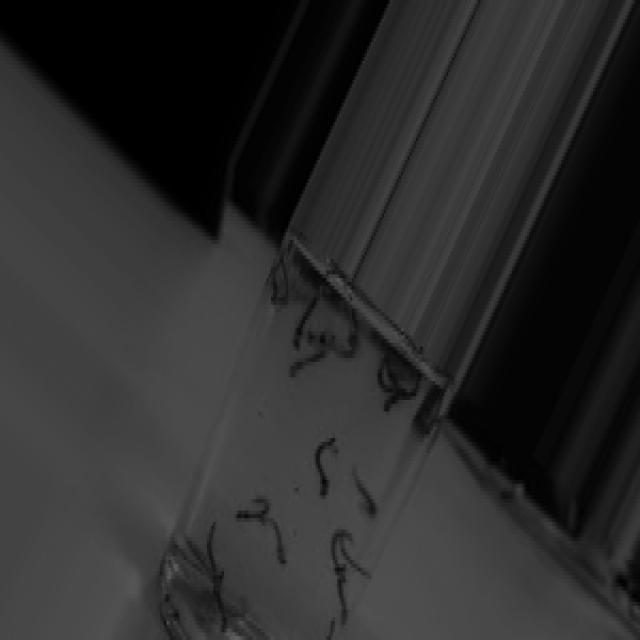larvas: (376, 349, 421, 413), (210, 522, 228, 626), (308, 316, 359, 349), (290, 288, 316, 348), (290, 348, 329, 382), (313, 439, 334, 497), (355, 465, 377, 515), (344, 542, 372, 578), (271, 260, 290, 306), (186, 533, 209, 571), (270, 518, 288, 566), (235, 499, 271, 522), (331, 531, 346, 577), (338, 581, 350, 626)
